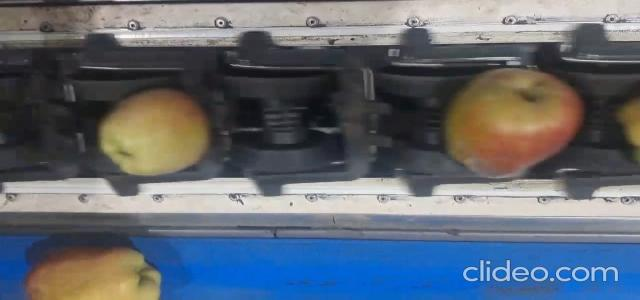apple: (445, 69, 584, 177), (99, 89, 209, 175)
